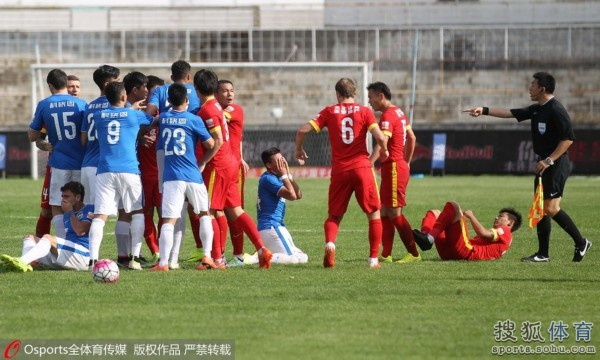falling: (241, 153, 313, 267)
